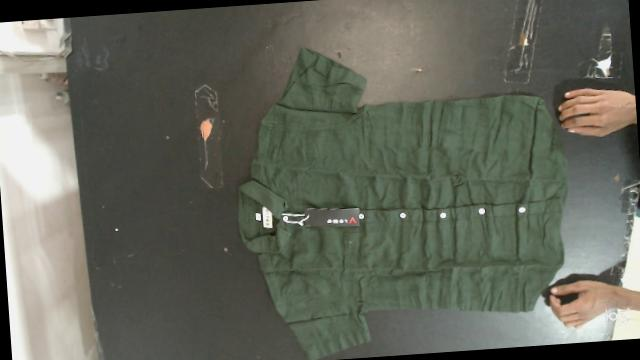new-garment: (238, 48, 567, 359)
